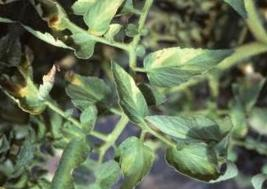Tomato mold leaf: (134, 18, 236, 108), (89, 53, 163, 126), (156, 128, 238, 189), (48, 62, 121, 122), (103, 128, 161, 189), (80, 0, 131, 37)
